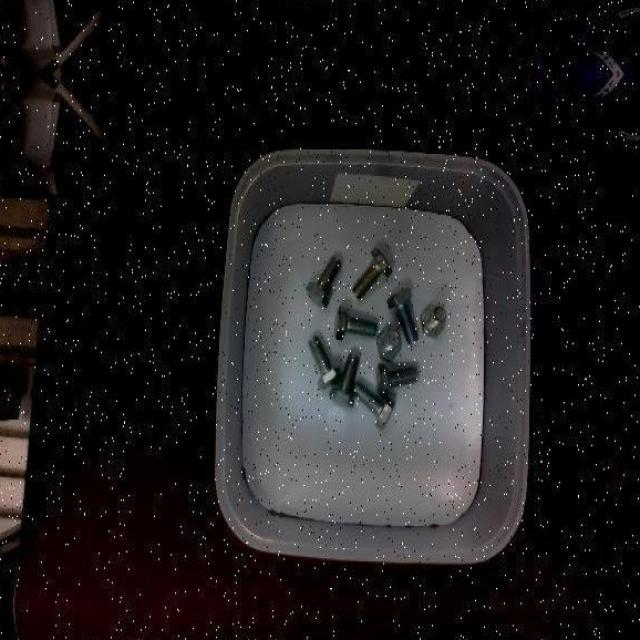screw: (354, 381, 396, 430), (352, 247, 392, 297), (307, 334, 340, 390), (304, 255, 340, 306), (387, 286, 418, 342), (329, 354, 359, 406), (374, 363, 419, 397), (334, 306, 376, 338), (376, 326, 402, 361), (421, 302, 446, 336)
